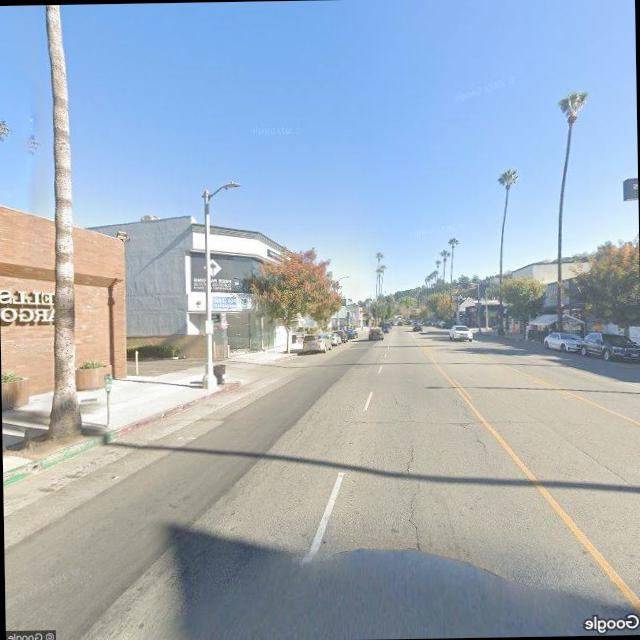pothole: (394, 439, 430, 548)
